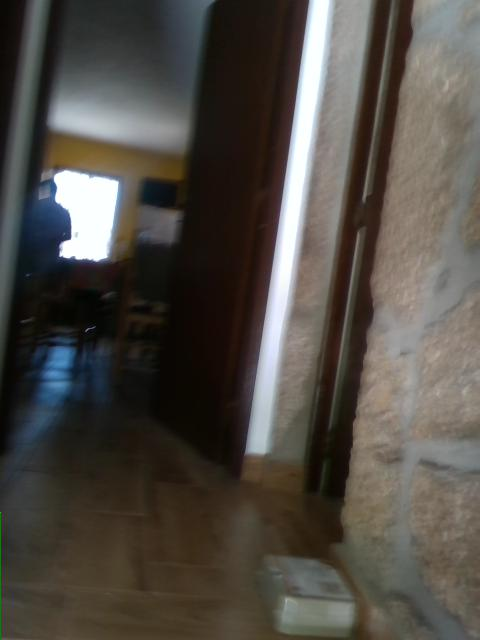door: (148, 1, 290, 464)
